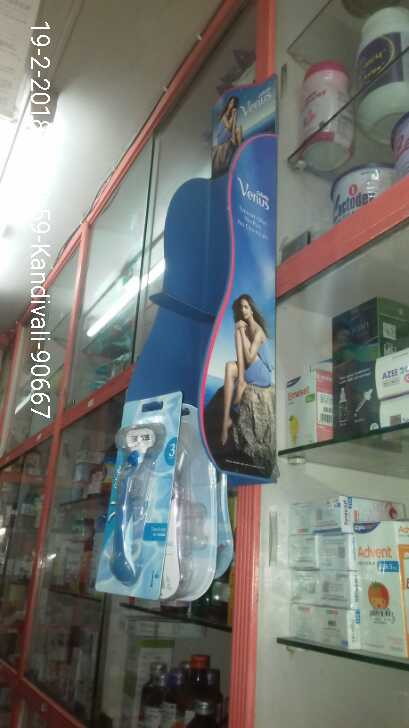venus: (93, 388, 182, 602)
